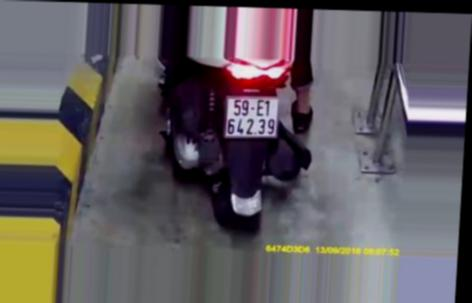License_Plate: (217, 91, 281, 141)
